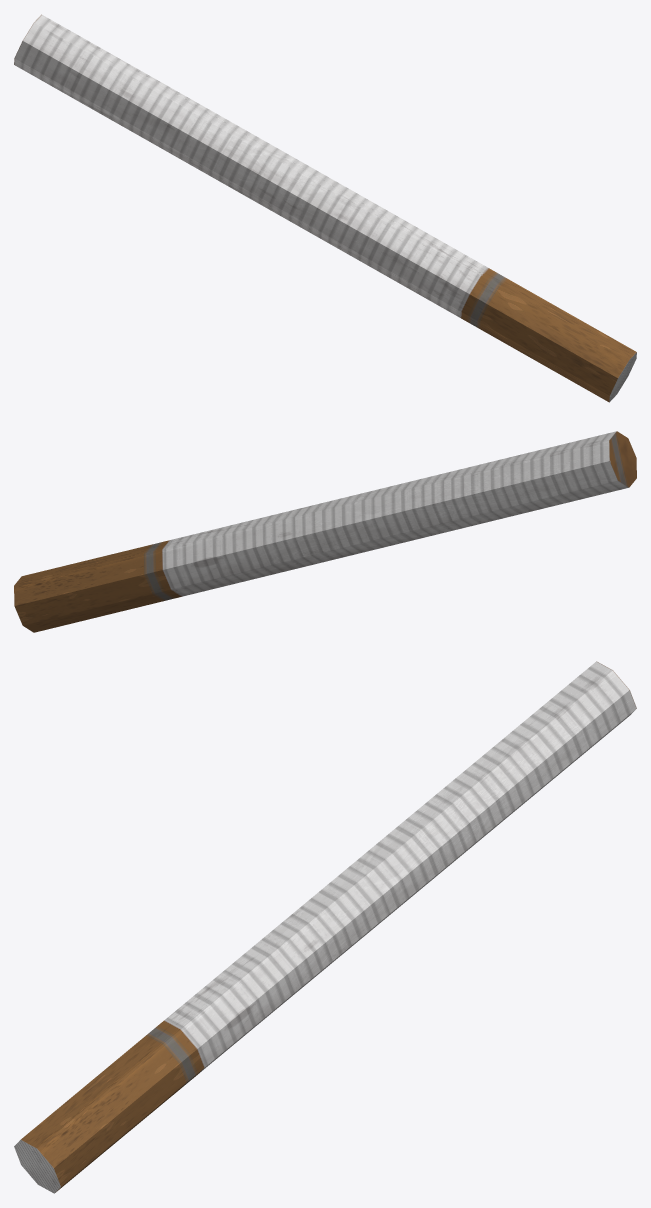
The model's file is cigarette_export_fix.fbx.
3 views of the same model, one above another, from view 1: azimuth 30°, elevation 25°; view 2: azimuth 210°, elevation 25°; view 3: azimuth 270°, elevation 25° (orthographic). The views are drawn at different scales.
Parts seen in each view (by area): view 1: pCylinder3; view 2: pCylinder3; view 3: pCylinder3.
Boxes of the visible parts, left/top/right/bottom form: pCylinder3: left=14, top=14, right=636, bottom=402; pCylinder3: left=14, top=431, right=636, bottom=632; pCylinder3: left=14, top=661, right=636, bottom=1193.
Bounding box in the file's own units: 5.86 × 4.13 × 6.99.
